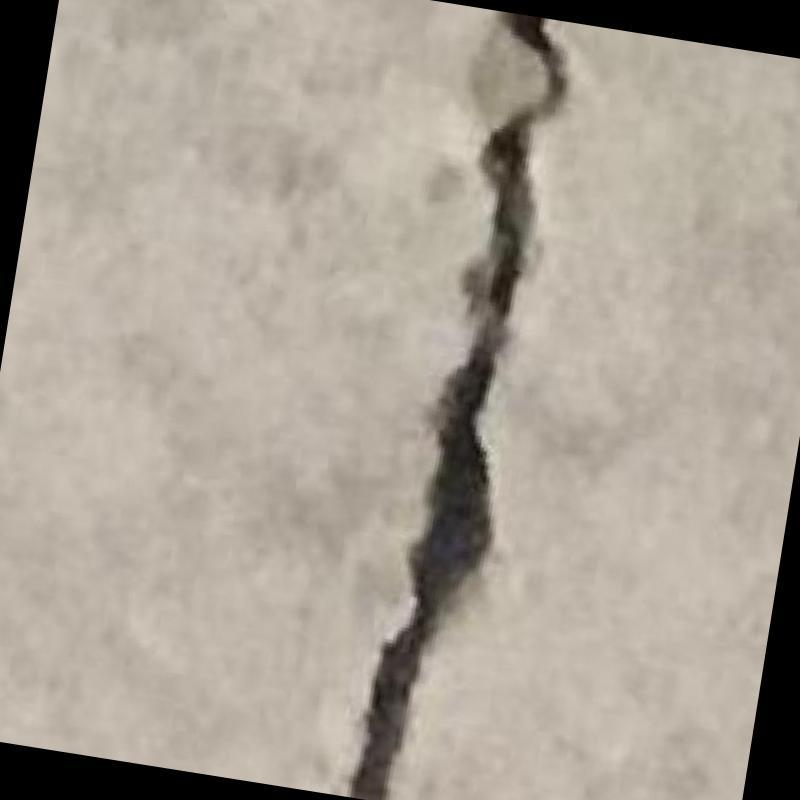crack: (349, 11, 566, 800)
